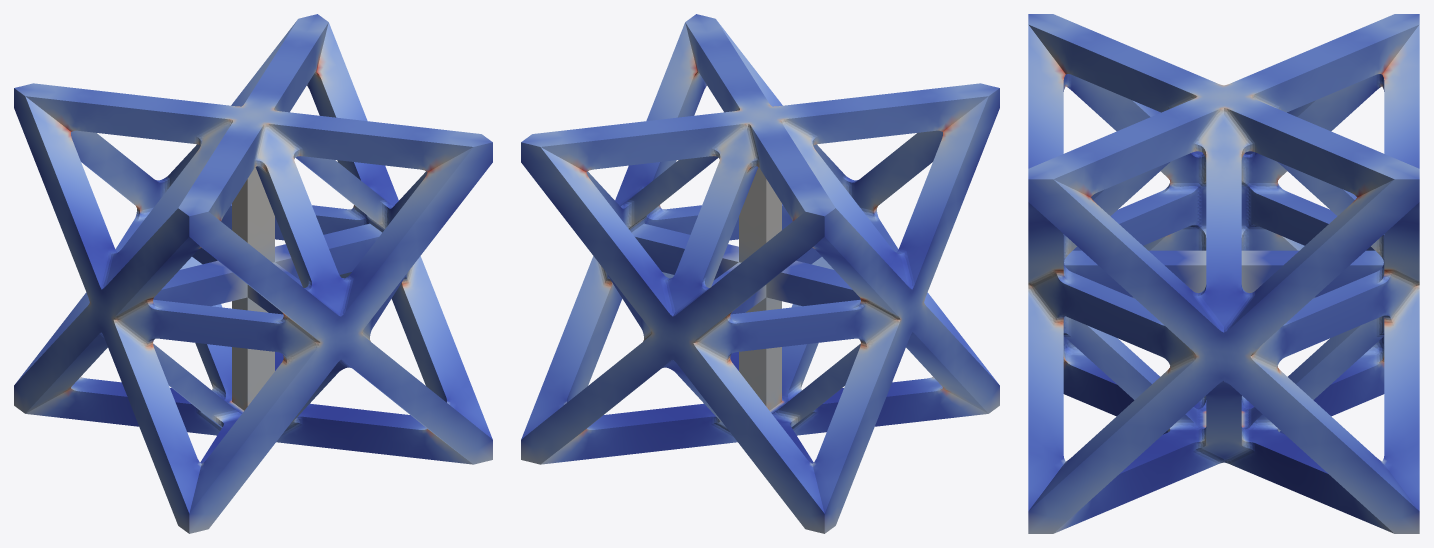
The picture shows the model from 3 angles, left to right: view 1: azimuth 30°, elevation 25°; view 2: azimuth 150°, elevation 25°; view 3: azimuth 270°, elevation 25°; orthographic projection. The views are drawn at different scales.
Visible parts, largest first — view 1: B3; view 2: B3; view 3: B3.
Boxes of the visible parts, x1,y1,x2,y2 form: B3: [14, 14, 492, 533]; B3: [521, 14, 999, 533]; B3: [1028, 14, 1419, 533].
Size of the model in its own units: 0.1 by 0.1 by 0.1.
